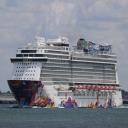cruises: (7, 34, 124, 110)
